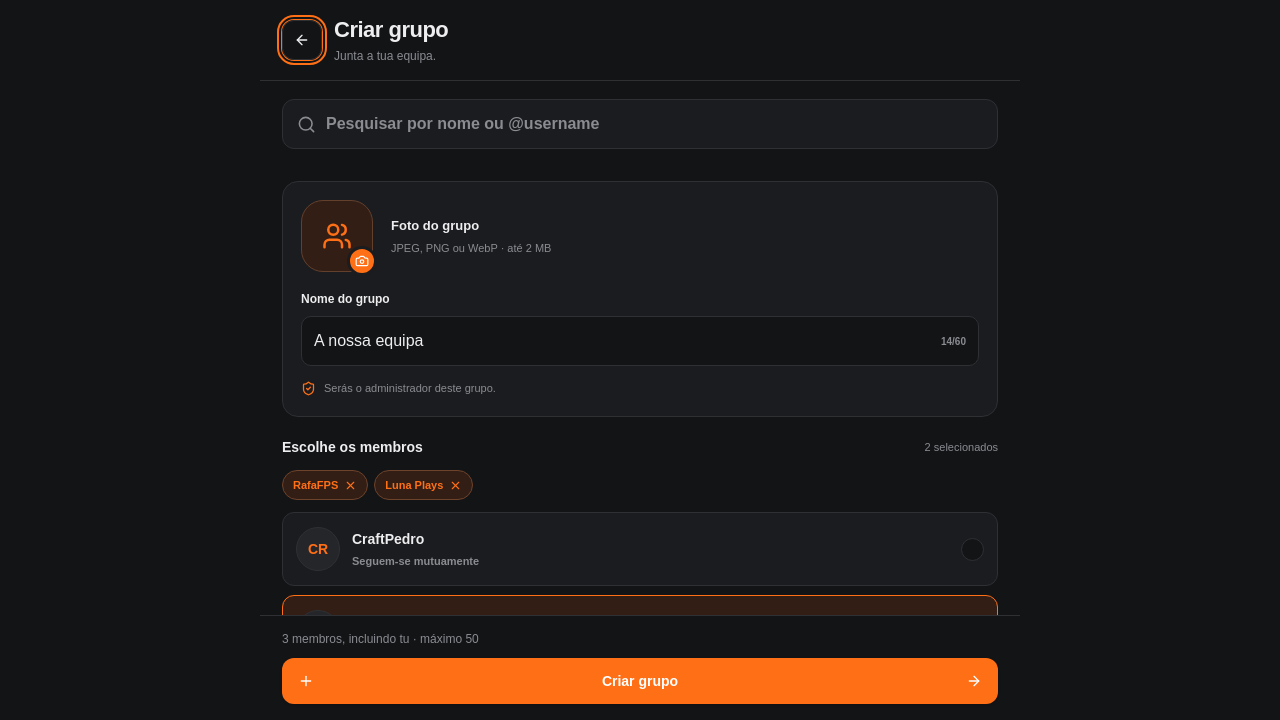
Test: Chat routing › creates a group and opens its conversation
Earlier steps of the test are not shown.
Click the button "Criar grupo": {"x": 640, "y": 681} [282, 658, 998, 704]
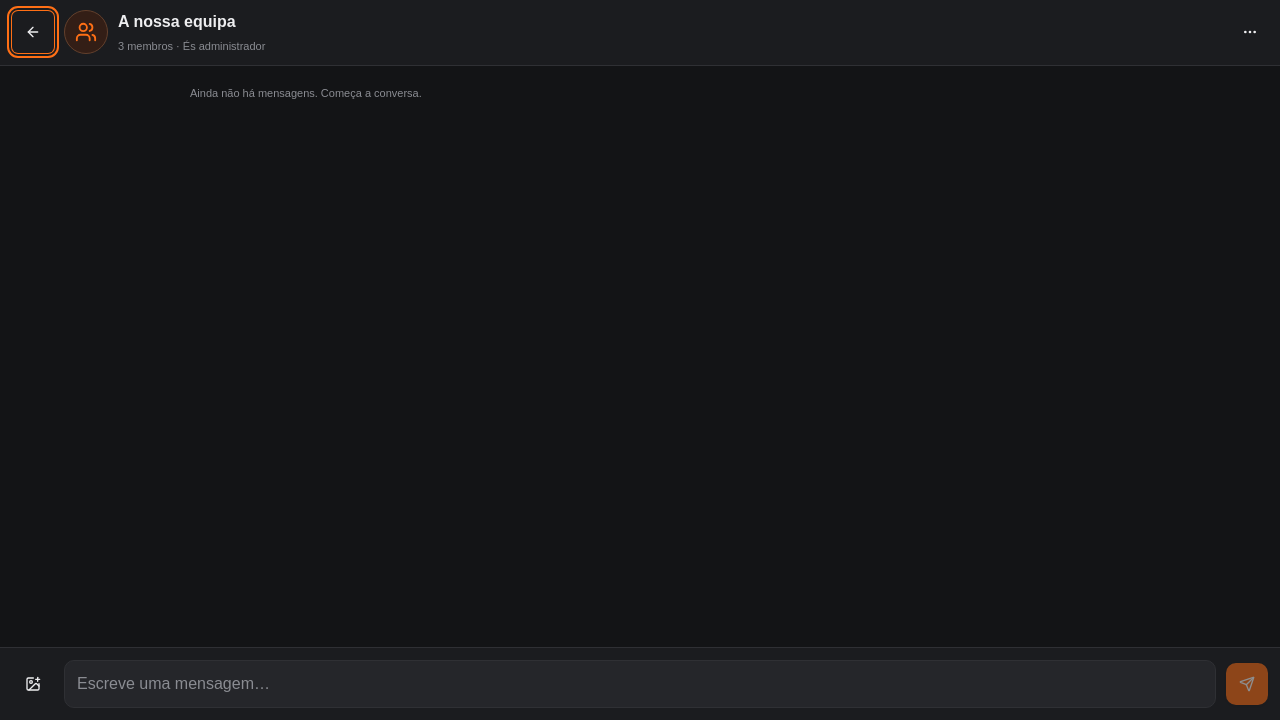
Expected: the field labelled "mensagem" is shown, [64, 660, 1216, 708]
